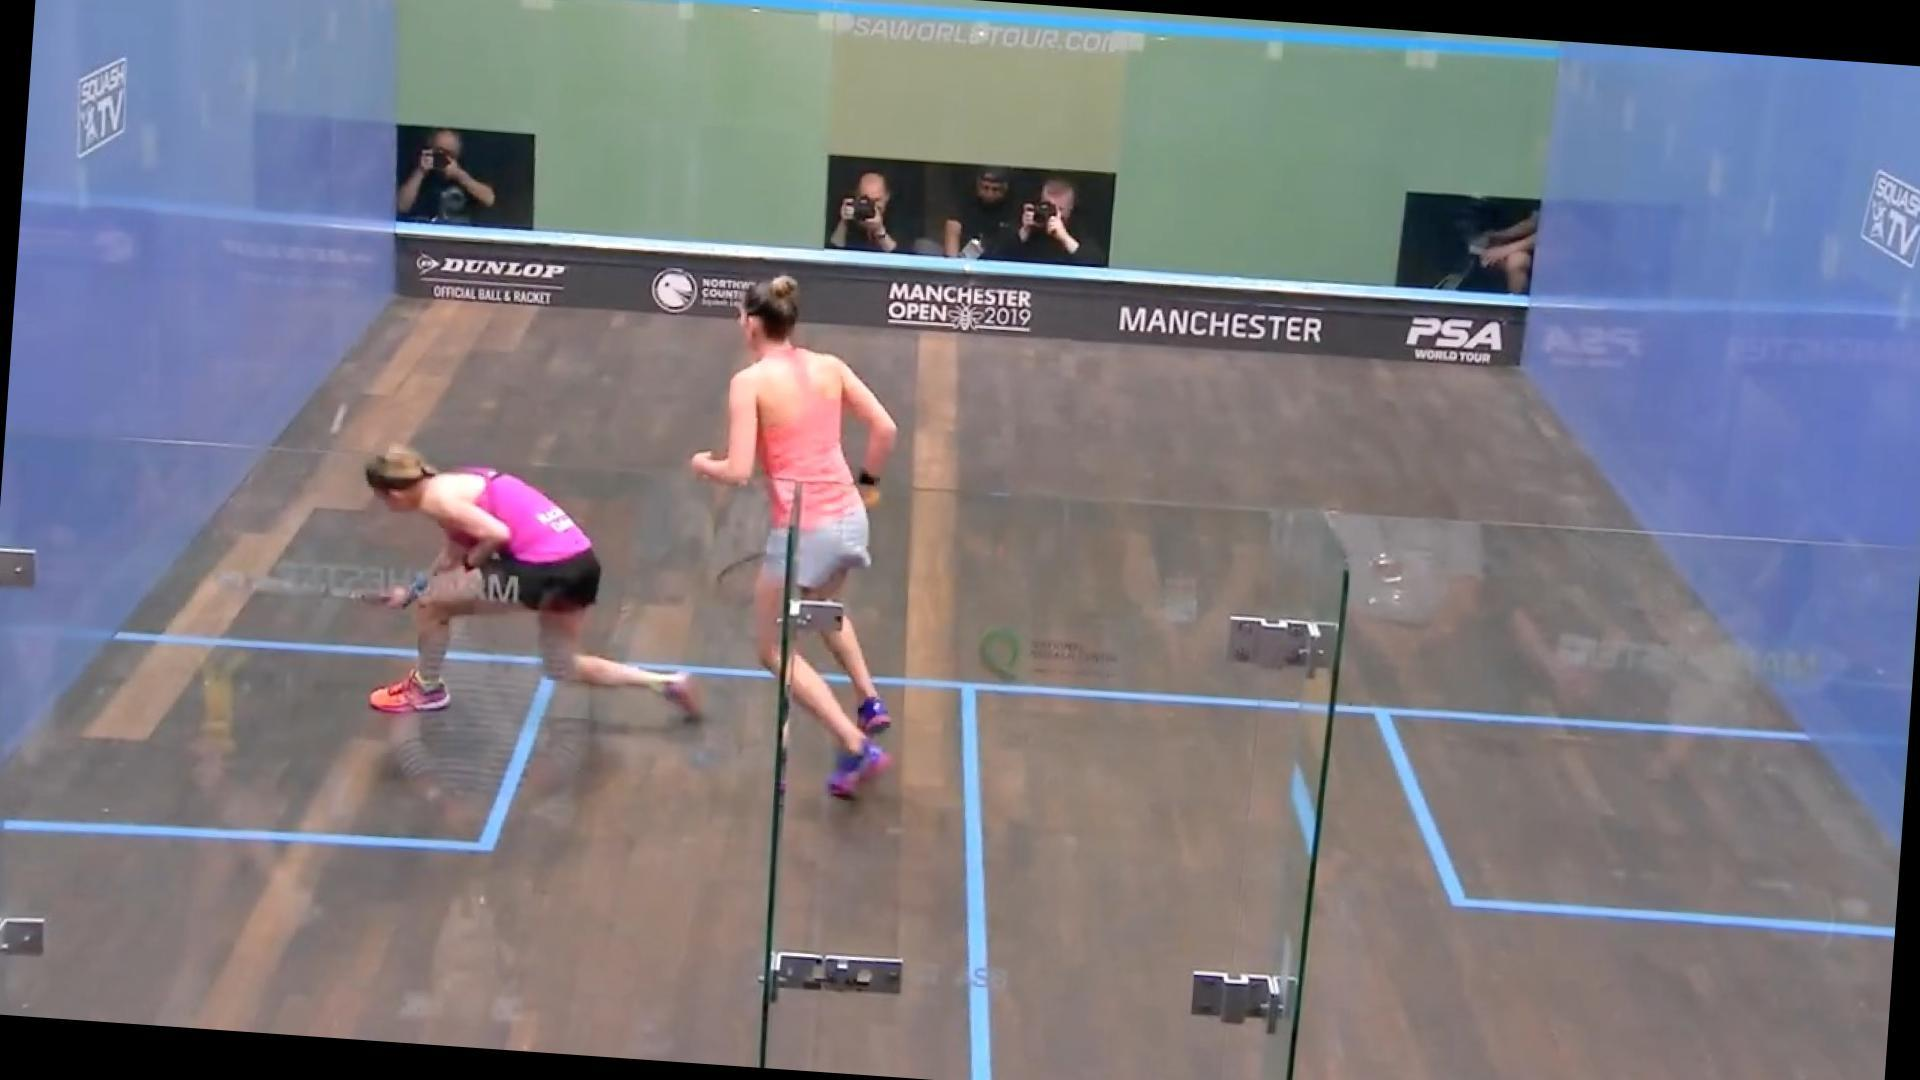Squash-Ball: (313, 388, 375, 454)
